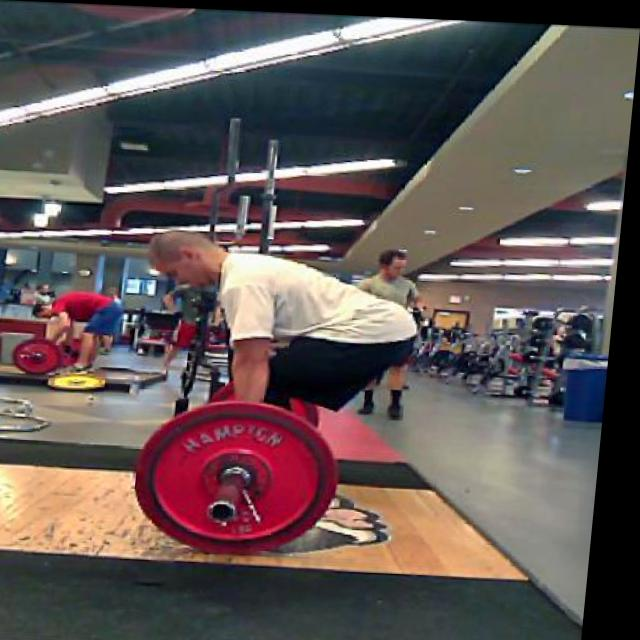barbell: (136, 390, 362, 561)
